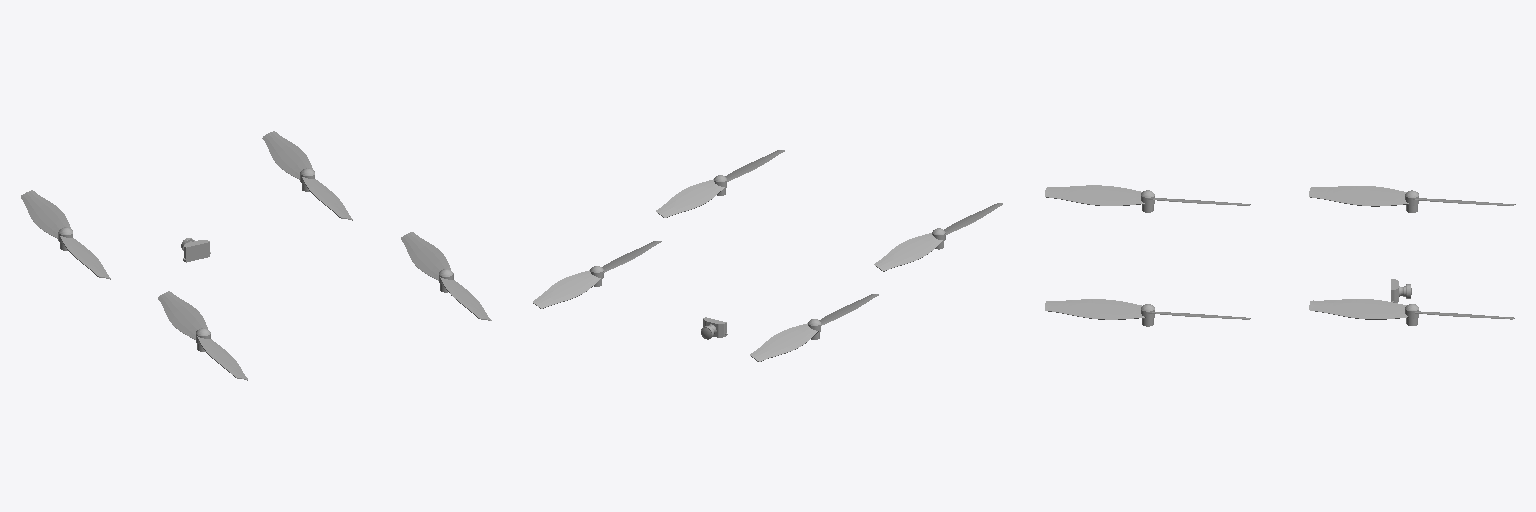
The robot description file, URDF, robot "drone_description":
<?xml version="1.0" ?>
<!-- =================================================================================== -->
<!-- |    This document was autogenerated by xacro from drone_base.xacro               | -->
<!-- |    EDITING THIS FILE BY HAND IS NOT RECOMMENDED                                 | -->
<!-- =================================================================================== -->
<robot name="drone_description">
  <!-- <transmission name="camera">
    <type>transmission_interface/SimpleTransmission</type>
    <joint name="camera_joint">
      <hardwareInterface>hardware_interface/PositionJointInterface</hardwareInterface>
    </joint>
    <actuator name="camera_motor">
      <mechanicalReduction>1</mechanicalReduction>
      <hardwareInterface>hardware_interface/PositionJointInterface</hardwareInterface>
    </actuator>
  </transmission> -->
  <!-- ROS CONTROL -->
  <gazebo>
    <plugin filename="libgazebo_ros_control.so" name="gazebo_ros_control">
      <robotNamespace>/</robotNamespace>
    </plugin>
  </gazebo>
  <!-- CAMERA -->
  <gazebo reference="camera">
    <sensor name="camera" type="camera">
      <update_rate>30.0</update_rate>
      <camera name="head">
        <horizontal_fov>1.3962634</horizontal_fov>
        <image>
          <width>1280</width>
          <height>720</height>
          <format>R8G8B8</format>
        </image>
        <clip>
          <near>0.02</near>
          <far>300</far>
        </clip>
        <noise>
          <type>gaussian</type>
          <!-- Noise is sampled independently per pixel on each frame.
              That pixel's noise value is added to each of its color
              channels, which at that point lie in the range [0,1]. -->
          <mean>0.0</mean>
          <stddev>0.007</stddev>
        </noise>
      </camera>
      <plugin filename="libgazebo_ros_camera.so" name="camera_controller">
        <alwaysOn>true</alwaysOn>
        <updateRate>0.0</updateRate>
        <cameraName>/camera</cameraName>
        <imageTopicName>image_raw</imageTopicName>
        <cameraInfoTopicName>camera_info</cameraInfoTopicName>
        <frameName>camera_link</frameName>
        <hackBaseline>0.07</hackBaseline>
        <distortionK1>0.0</distortionK1>
        <distortionK2>0.0</distortionK2>
        <distortionK3>0.0</distortionK3>
        <distortionT1>0.0</distortionT1>
        <distortionT2>0.0</distortionT2>
      </plugin>
    </sensor>
  </gazebo>
  <!-- DUMMY lINK -->
  <link name="dummy_link"/>
  <!-- LINKS -->
  <link name="base_link">
    <inertial>
      <origin rpy="0 0 0" xyz="5.7334E-07 0.026879 0.015324"/>
      <mass value="0.38016"/>
      <inertia ixx="0.00029212" ixy="-1.331E-09" ixz="-3.9126E-08" iyy="0.00040699" iyz="1.6869E-06" izz="0.00015798"/>
    </inertial>
    <visual>
      <origin rpy="0 0 0" xyz="0 0 0"/>
      <geometry>
        <mesh filename="package://drone_description/meshes/base_link.STL"/>
      </geometry>
      <material name="">
        <color rgba="0.69804 0.69804 0.69804 1"/>
      </material>
    </visual>
    <collision>
      <origin rpy="0 0 0" xyz="0 0 0"/>
      <geometry>
        <mesh filename="package://drone_description/meshes/base_link.STL"/>
      </geometry>
    </collision>
  </link>
  <link name="camera">
    <inertial>
      <origin rpy="0 0 0" xyz="-0.0036143 0.00349 0.00925"/>
      <mass value="0.090718"/>
      <inertia ixx="2.4903E-06" ixy="3.2829E-09" ixz="8.2525E-22" iyy="3.279E-06" iyz="-1.531E-21" izz="2.3388E-06"/>
    </inertial>
    <visual>
      <origin rpy="0 0 0" xyz="0 0 0"/>
      <geometry>
        <mesh filename="package://drone_description/meshes/camera.STL"/>
      </geometry>
      <material name="">
        <color rgba="0.69804 0.69804 0.69804 1"/>
      </material>
    </visual>
    <collision>
      <origin rpy="0 0 0" xyz="0 0 0"/>
      <geometry>
        <mesh filename="package://drone_description/meshes/camera.STL"/>
      </geometry>
    </collision>
  </link>
  <!-- DUMMY JOINT -->
  <joint name="dummy" type="fixed">
    <parent link="dummy_link"/>
    <child link="base_link"/>
  </joint>
  <!-- JOINT -->
  <joint name="camera_joint" type="revolute">
    <origin rpy="1.570796326795 0 -1.570796326795" xyz="0.00925 0.059965 0.0165"/>
    <parent link="base_link"/>
    <child link="camera"/>
    <axis xyz="0 0 -1"/>
    <limit effort="0" lower="-1.0471975511966667" upper="0" velocity="0"/>
  </joint>
  <link name="front_left_prop">
    <inertial>
      <origin rpy="0 0 0" xyz="0 0 0.0089339"/>
      <mass value="0.06804"/>
      <inertia ixx="5.4455E-05" ixy="2.3822E-05" ixz="0" iyy="1.2182E-05" iyz="0" izz="6.5653E-05"/>
    </inertial>
    <visual>
      <origin rpy="0 0 0" xyz="0 0 0"/>
      <geometry>
        <mesh filename="package://drone_description/meshes/propeller.STL"/>
      </geometry>
      <material name="">
        <color rgba="0.69804 0.69804 0.69804 1"/>
      </material>
    </visual>
    <collision>
      <origin rpy="0 0 0" xyz="0 0 0"/>
      <geometry>
        <mesh filename="package://drone_description/meshes/propeller.STL"/>
      </geometry>
    </collision>
  </link>
  <link name="front_right_prop">
    <inertial>
      <origin rpy="0 0 0" xyz="0 0 0.0089339"/>
      <mass value="0.06804"/>
      <inertia ixx="5.4455E-05" ixy="2.3822E-05" ixz="0" iyy="1.2182E-05" iyz="0" izz="6.5653E-05"/>
    </inertial>
    <visual>
      <origin rpy="0 0 0" xyz="0 0 0"/>
      <geometry>
        <mesh filename="package://drone_description/meshes/propeller.STL"/>
      </geometry>
      <material name="">
        <color rgba="0.69804 0.69804 0.69804 1"/>
      </material>
    </visual>
    <collision>
      <origin rpy="0 0 0" xyz="0 0 0"/>
      <geometry>
        <mesh filename="package://drone_description/meshes/propeller.STL"/>
      </geometry>
    </collision>
  </link>
  <link name="back_left_prop">
    <inertial>
      <origin rpy="0 0 0" xyz="0 0 0.0089339"/>
      <mass value="0.06804"/>
      <inertia ixx="5.4455E-05" ixy="2.3822E-05" ixz="0" iyy="1.2182E-05" iyz="0" izz="6.5653E-05"/>
    </inertial>
    <visual>
      <origin rpy="0 0 0" xyz="0 0 0"/>
      <geometry>
        <mesh filename="package://drone_description/meshes/propeller.STL"/>
      </geometry>
      <material name="">
        <color rgba="0.69804 0.69804 0.69804 1"/>
      </material>
    </visual>
    <collision>
      <origin rpy="0 0 0" xyz="0 0 0"/>
      <geometry>
        <mesh filename="package://drone_description/meshes/propeller.STL"/>
      </geometry>
    </collision>
  </link>
  <link name="back_right_prop">
    <inertial>
      <origin rpy="0 0 0" xyz="0 0 0.0089339"/>
      <mass value="0.06804"/>
      <inertia ixx="5.4455E-05" ixy="2.3822E-05" ixz="0" iyy="1.2182E-05" iyz="0" izz="6.5653E-05"/>
    </inertial>
    <visual>
      <origin rpy="0 0 0" xyz="0 0 0"/>
      <geometry>
        <mesh filename="package://drone_description/meshes/propeller.STL"/>
      </geometry>
      <material name="">
        <color rgba="0.69804 0.69804 0.69804 1"/>
      </material>
    </visual>
    <collision>
      <origin rpy="0 0 0" xyz="0 0 0"/>
      <geometry>
        <mesh filename="package://drone_description/meshes/propeller.STL"/>
      </geometry>
    </collision>
  </link>
  <joint name="front_left_prop_joint" type="continuous">
    <origin rpy="0 0 0" xyz="-0.092959 0.073449 0.0385"/>
    <parent link="base_link"/>
    <child link="front_left_prop"/>
    <axis xyz="0 0 1"/>
  </joint>
  <joint name="front_right_prop_joint" type="continuous">
    <origin rpy="0 0 0" xyz="0.092959 0.073449 0.0385"/>
    <parent link="base_link"/>
    <child link="front_right_prop"/>
    <axis xyz="0 0 1"/>
  </joint>
  <joint name="back_left_prop_joint" type="continuous">
    <origin rpy="0 0 0" xyz="-0.093338 -0.10988 0.0385"/>
    <parent link="base_link"/>
    <child link="back_left_prop"/>
    <axis xyz="0 0 1"/>
  </joint>
  <joint name="back_right_prop_joint" type="continuous">
    <origin rpy="0 0 0" xyz="0.093338 -0.10988 0.0385"/>
    <parent link="base_link"/>
    <child link="back_right_prop"/>
    <axis xyz="0 0 1"/>
  </joint>
  <transmission name="front_left_prop_trans">
    <type>transmission_interface/SimpleTransmission</type>
    <joint name="front_left_prop_joint">
      <hardwareInterface>hardware_interface/VelocityJointInterface</hardwareInterface>
    </joint>
    <actuator name="front_left_prop_motor">
      <mechanicalReduction>1</mechanicalReduction>
      <hardwareInterface>hardware_interface/VelocityJointInterface</hardwareInterface>
    </actuator>
  </transmission>
  <transmission name="front_right_prop_trans">
    <type>transmission_interface/SimpleTransmission</type>
    <joint name="front_right_prop_joint">
      <hardwareInterface>hardware_interface/VelocityJointInterface</hardwareInterface>
    </joint>
    <actuator name="front_right_prop_motor">
      <mechanicalReduction>1</mechanicalReduction>
      <hardwareInterface>hardware_interface/VelocityJointInterface</hardwareInterface>
    </actuator>
  </transmission>
  <transmission name="back_left_prop_trans">
    <type>transmission_interface/SimpleTransmission</type>
    <joint name="back_left_prop_joint">
      <hardwareInterface>hardware_interface/VelocityJointInterface</hardwareInterface>
    </joint>
    <actuator name="back_left_prop_motor">
      <mechanicalReduction>1</mechanicalReduction>
      <hardwareInterface>hardware_interface/VelocityJointInterface</hardwareInterface>
    </actuator>
  </transmission>
  <transmission name="back_right_prop_trans">
    <type>transmission_interface/SimpleTransmission</type>
    <joint name="back_right_prop_joint">
      <hardwareInterface>hardware_interface/VelocityJointInterface</hardwareInterface>
    </joint>
    <actuator name="back_right_prop_motor">
      <mechanicalReduction>1</mechanicalReduction>
      <hardwareInterface>hardware_interface/VelocityJointInterface</hardwareInterface>
    </actuator>
  </transmission>
  <gazebo>
    <plugin filename="libliftDragPlugin.so" name="front_left_prop_lift">
      <!-- taken from the lift curve figure -->
      <a0>0.1</a0>
      <cla>0.1</cla>
      <cda>0.01</cda>
      <cma>0.0</cma>
      <alpha_stall>0.3368</alpha_stall>
      <cla_stall>-2.1419</cla_stall>
      <cda_stall>0.0</cda_stall>
      <cma_stall>0.0</cma_stall>
      <cp>0 0.5 0</cp>
      <area>0.762</area>
      <air_density>1.2041</air_density>
      <forward>1 0 0</forward>
      <upward>0 0 1</upward>
      <link_name>front_left_prop</link_name>
      <control_joint>front_left_prop_joint</control_joint>
    </plugin>
  </gazebo>
  <gazebo>
    <plugin filename="libliftDragPlugin.so" name="front_right_prop_lift">
      <!-- taken from the lift curve figure -->
      <a0>0.1</a0>
      <cla>0.1</cla>
      <cda>0.01</cda>
      <cma>0.0</cma>
      <alpha_stall>0.3368</alpha_stall>
      <cla_stall>-2.1419</cla_stall>
      <cda_stall>0.0</cda_stall>
      <cma_stall>0.0</cma_stall>
      <cp>0 0.5 0</cp>
      <area>0.762</area>
      <air_density>1.2041</air_density>
      <forward>1 0 0</forward>
      <upward>0 0 1</upward>
      <link_name>front_right_prop</link_name>
      <control_joint>front_right_prop_joint</control_joint>
    </plugin>
  </gazebo>
  <gazebo>
    <plugin filename="libliftDragPlugin.so" name="back_left_prop_lift">
      <!-- taken from the lift curve figure -->
      <a0>0.1</a0>
      <cla>0.1</cla>
      <cda>0.01</cda>
      <cma>0.0</cma>
      <alpha_stall>0.3368</alpha_stall>
      <cla_stall>-2.1419</cla_stall>
      <cda_stall>0.0</cda_stall>
      <cma_stall>0.0</cma_stall>
      <cp>0 0.5 0</cp>
      <area>0.762</area>
      <air_density>1.2041</air_density>
      <forward>1 0 0</forward>
      <upward>0 0 1</upward>
      <link_name>back_left_prop</link_name>
      <control_joint>back_left_prop_joint</control_joint>
    </plugin>
  </gazebo>
  <gazebo>
    <plugin filename="libliftDragPlugin.so" name="back_right_prop_lift">
      <!-- taken from the lift curve figure -->
      <a0>0.1</a0>
      <cla>0.1</cla>
      <cda>0.01</cda>
      <cma>0.0</cma>
      <alpha_stall>0.3368</alpha_stall>
      <cla_stall>-2.1419</cla_stall>
      <cda_stall>0.0</cda_stall>
      <cma_stall>0.0</cma_stall>
      <cp>0 0.5 0</cp>
      <area>0.762</area>
      <air_density>1.2041</air_density>
      <forward>1 0 0</forward>
      <upward>0 0 1</upward>
      <link_name>back_right_prop</link_name>
      <control_joint>back_right_prop_joint</control_joint>
    </plugin>
  </gazebo>
</robot>

--- Render facts (derived) ---
3 views of the same robot in one strip: view 1: azimuth 30°, elevation 25°; view 2: azimuth 150°, elevation 25°; view 3: azimuth 270°, elevation 25° (orthographic).
Robot: drone_description — 7 links, 6 joints (1 revolute, 4 continuous, 1 fixed); root link dummy_link; default pose: all joints at 0.
Links seen in each view (by area): view 1: front_right_prop, back_left_prop, front_left_prop, back_right_prop, camera; view 2: back_left_prop, front_right_prop, back_right_prop, front_left_prop; view 3: back_right_prop, back_left_prop, front_left_prop, front_right_prop.
Link boxes in pixels (left/top/right/bottom): front_right_prop: left=262, top=131, right=352, bottom=220; back_left_prop: left=158, top=291, right=247, bottom=380; front_left_prop: left=21, top=190, right=110, bottom=279; back_right_prop: left=401, top=232, right=491, bottom=320; camera: left=181, top=238, right=210, bottom=262; back_left_prop: left=874, top=203, right=1002, bottom=271; front_right_prop: left=533, top=241, right=661, bottom=308; back_right_prop: left=656, top=150, right=784, bottom=217; front_left_prop: left=750, top=294, right=878, bottom=361; back_right_prop: left=1045, top=299, right=1250, bottom=326; back_left_prop: left=1045, top=185, right=1250, bottom=212; front_left_prop: left=1309, top=186, right=1515, bottom=212; front_right_prop: left=1309, top=299, right=1514, bottom=325.
Bounding box of the posed robot: 0.2171 × 0.3267 × 0.039 m (x, y, z).
5 mesh visuals loaded from 3 distinct referenced files (2 binary STL); not drawn: 1 (reference not matched to a file when rendering).
